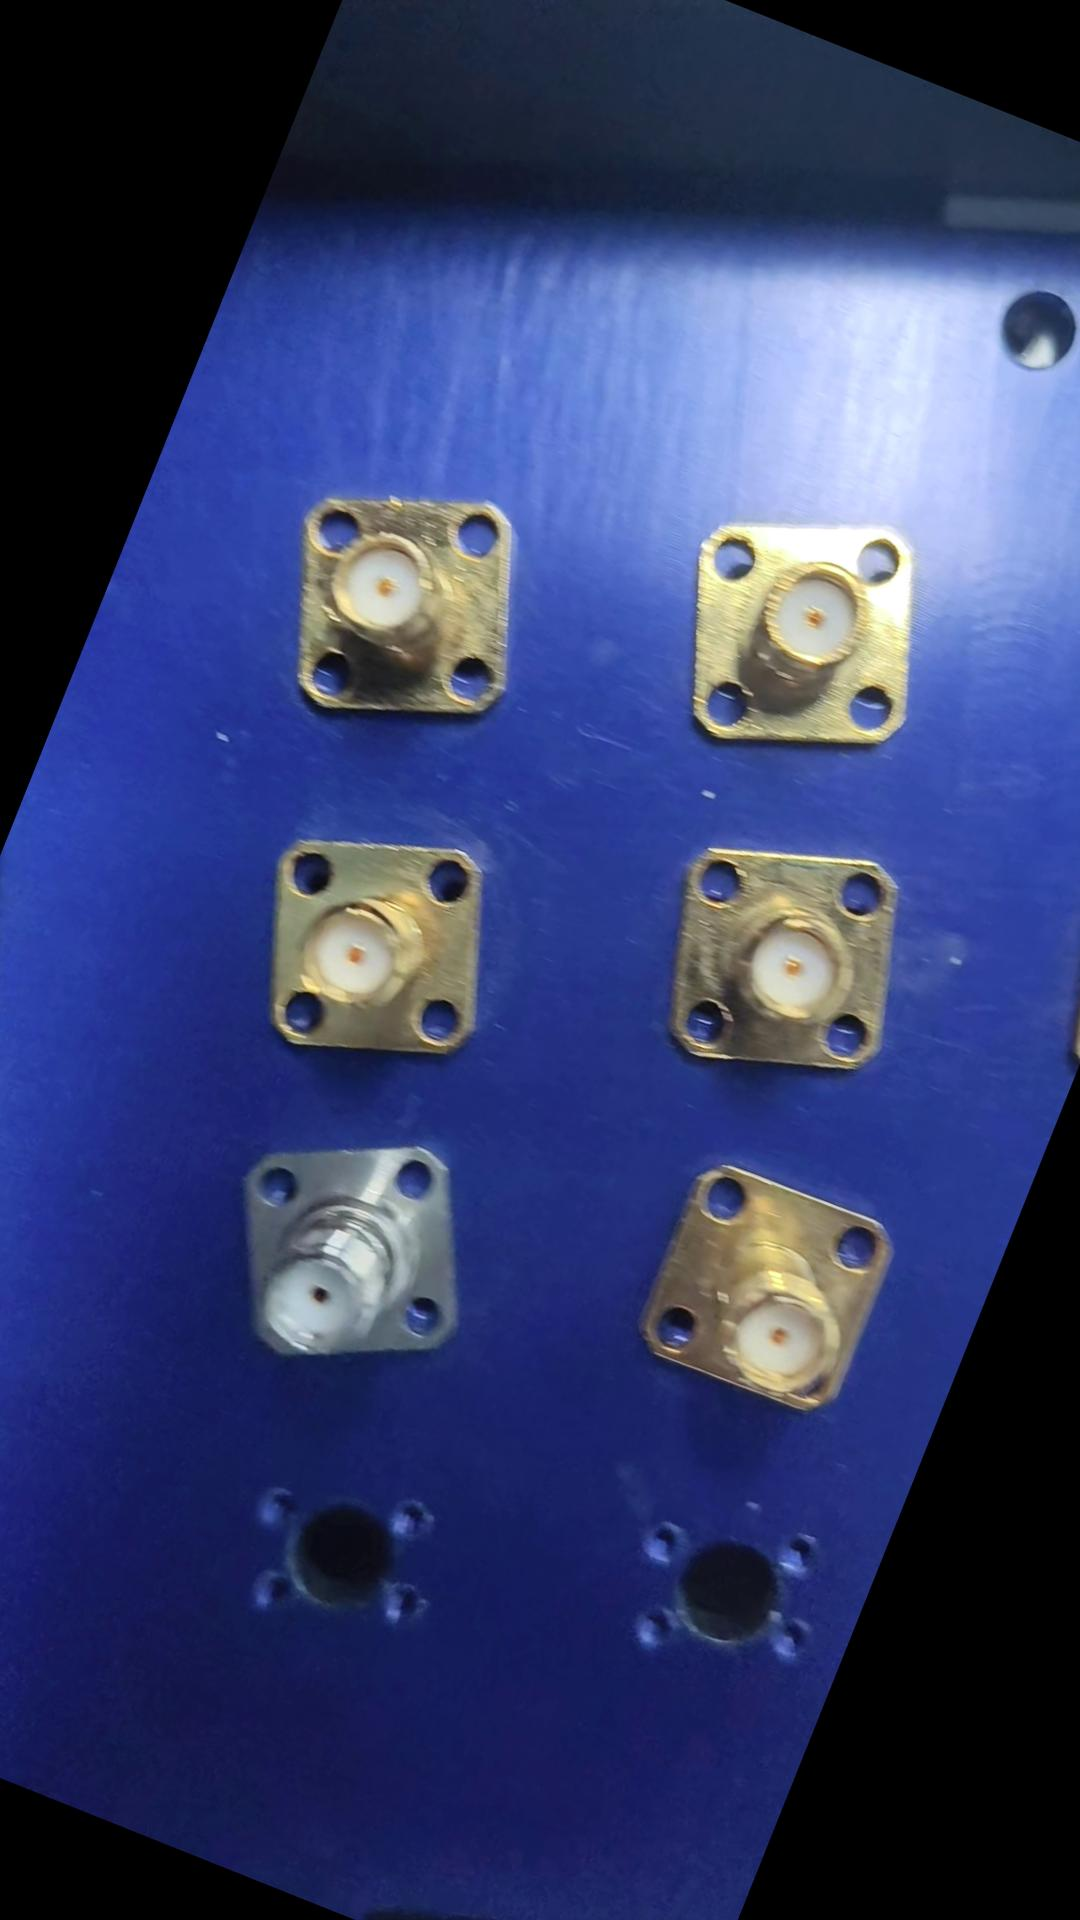SMA: (632, 460, 975, 803), (235, 434, 570, 767), (190, 1092, 520, 1420), (625, 800, 947, 1126), (222, 791, 541, 1109), (625, 1145, 914, 1433)
